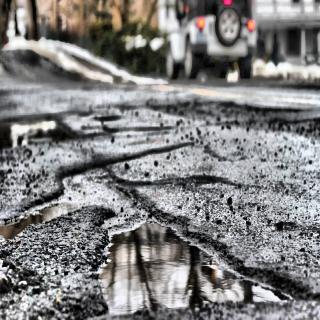crack: (110, 134, 196, 170)
pothole: (92, 203, 318, 313), (0, 158, 145, 240), (0, 115, 78, 153), (133, 171, 220, 191)
